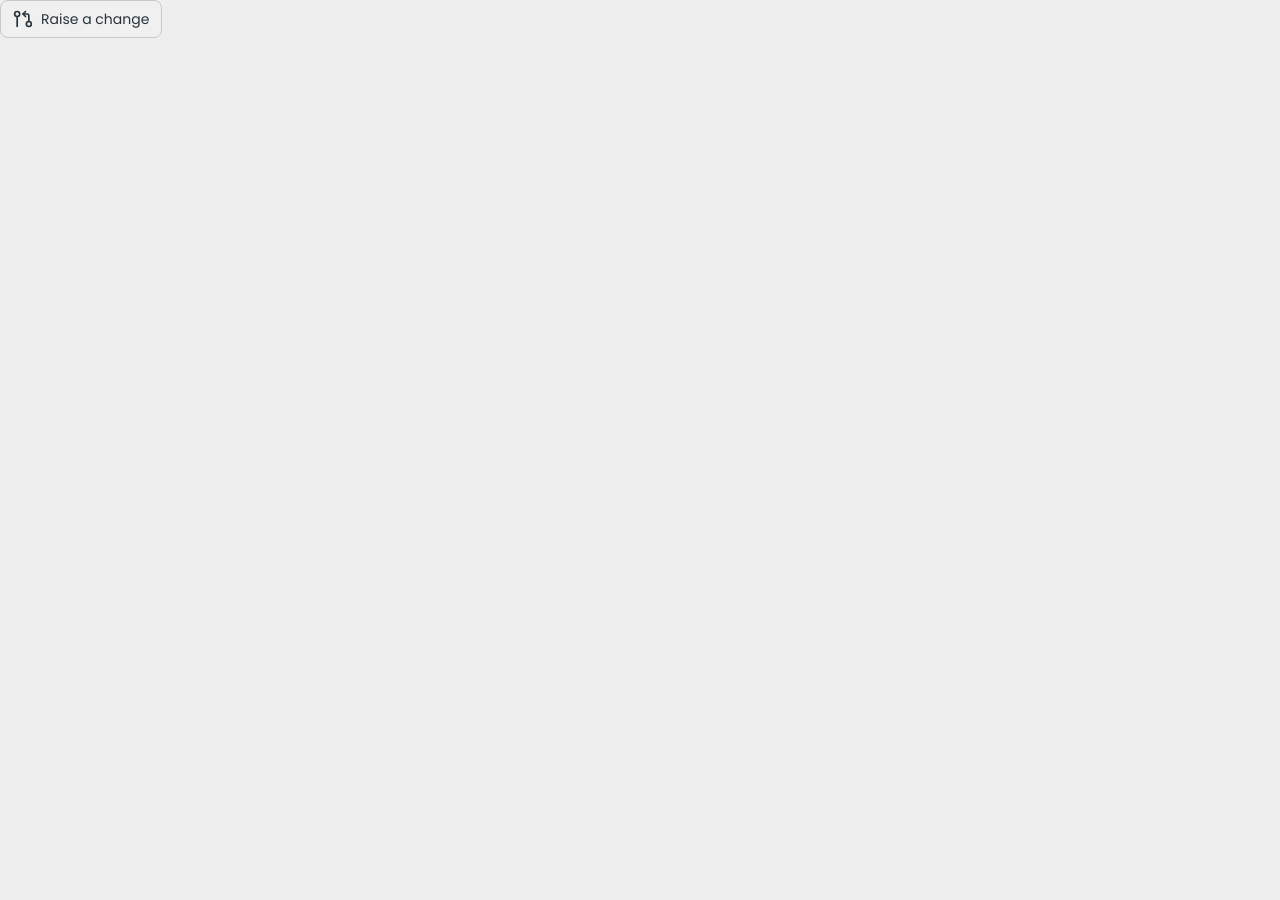
Scenario: RaiseChangeButton › opens the same prefilled dialog from a row, and is hidden without change.manage
This screenshot has width=1280, height=900.
Later steps or results of the test are not shown.
Click the button with aria-label "Raise a change from: Fix the gate": {"x": 81, "y": 19} [0, 0, 162, 38]
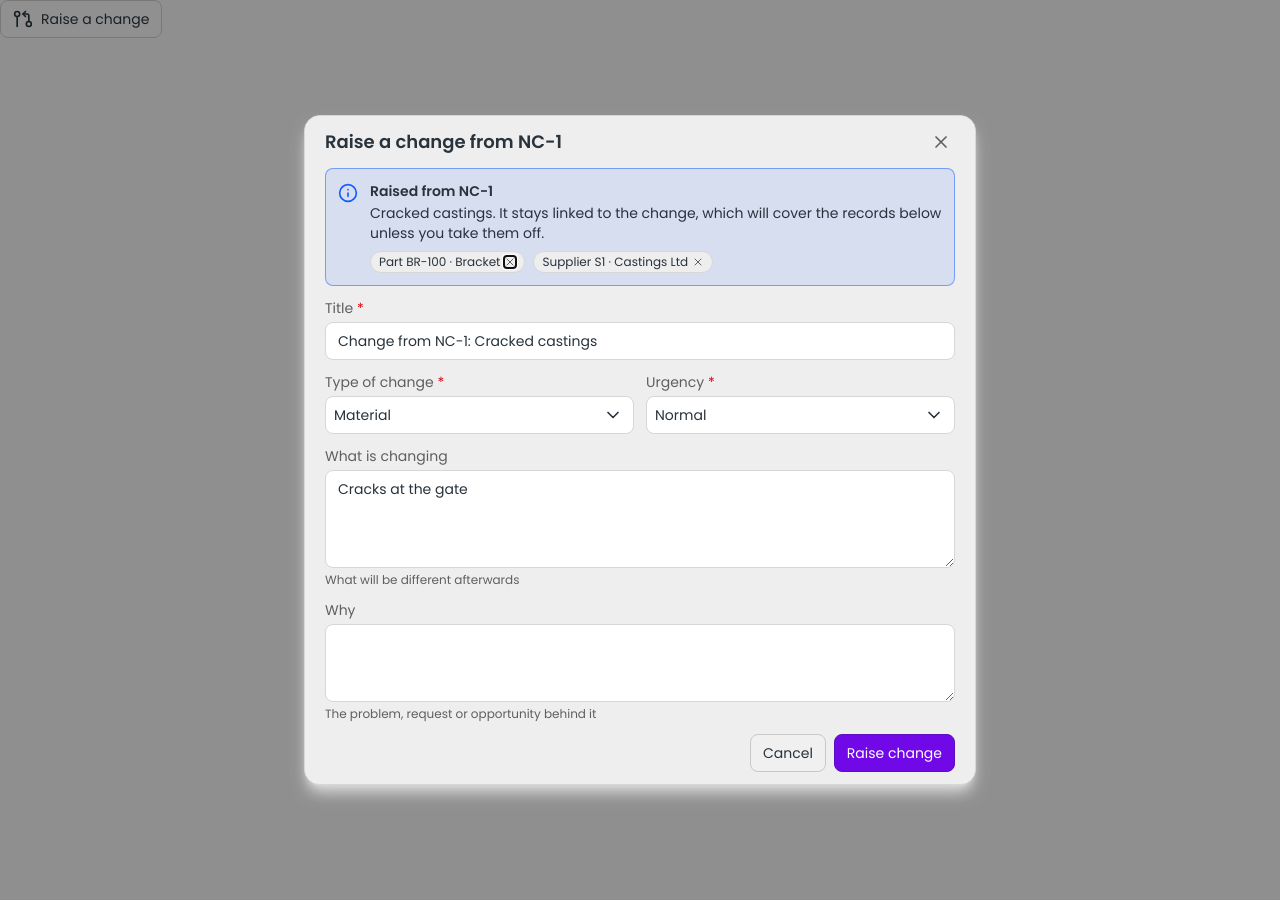
Now the dialog "Raise a change from NC-1" is shown, box [304, 115, 976, 785]
